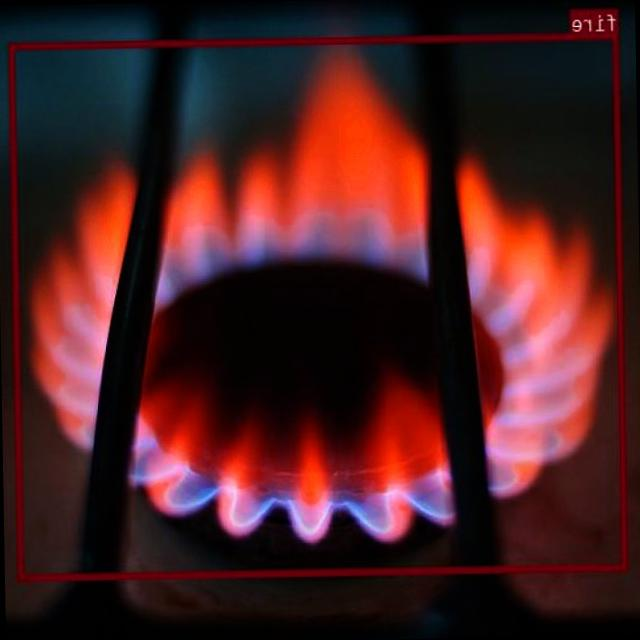fire: (9, 31, 628, 579)
